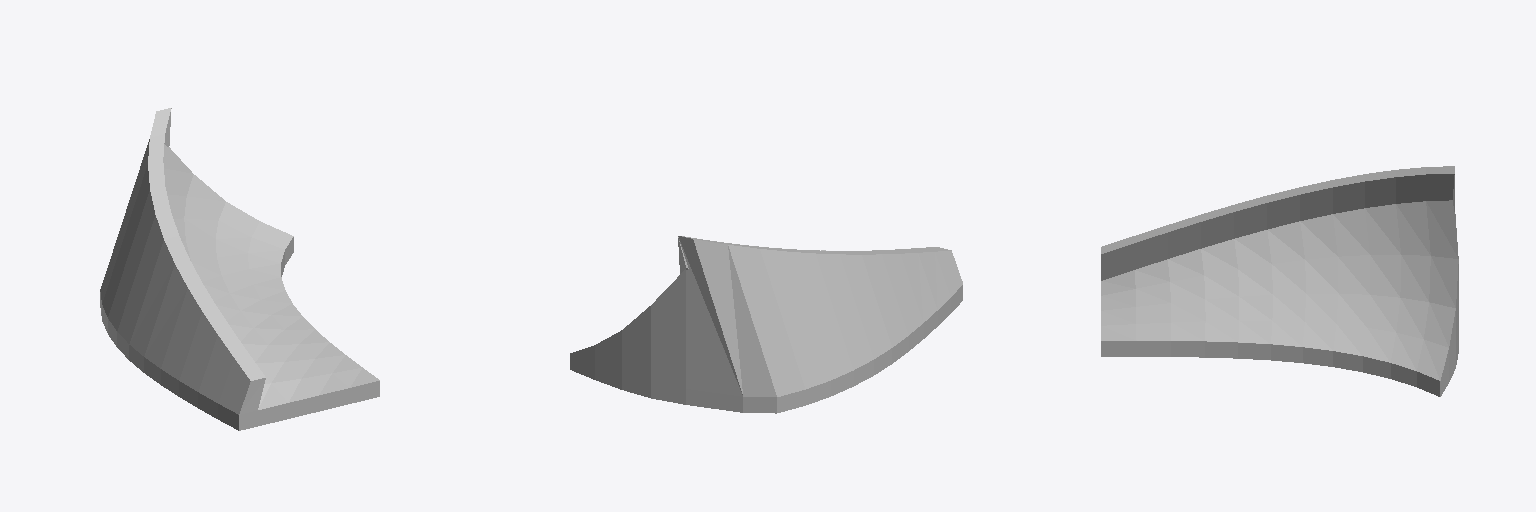
Rendered from curved_ramp_V7_L.obj.
The picture shows the model from 3 angles: view 1: azimuth 30°, elevation 25°; view 2: azimuth 150°, elevation 25°; view 3: azimuth 270°, elevation 25°; orthographic projection.
Visible parts, largest first — view 1: Plane.004_Plane.006; view 2: Plane.004_Plane.006; view 3: Plane.004_Plane.006.
Part boxes in pixels (bbox=[...]): Plane.004_Plane.006: bbox=[100, 108, 379, 430]; Plane.004_Plane.006: bbox=[570, 236, 962, 413]; Plane.004_Plane.006: bbox=[1101, 166, 1458, 396].
Size of the model in its own units: 1.54 by 1.05 by 2.02.